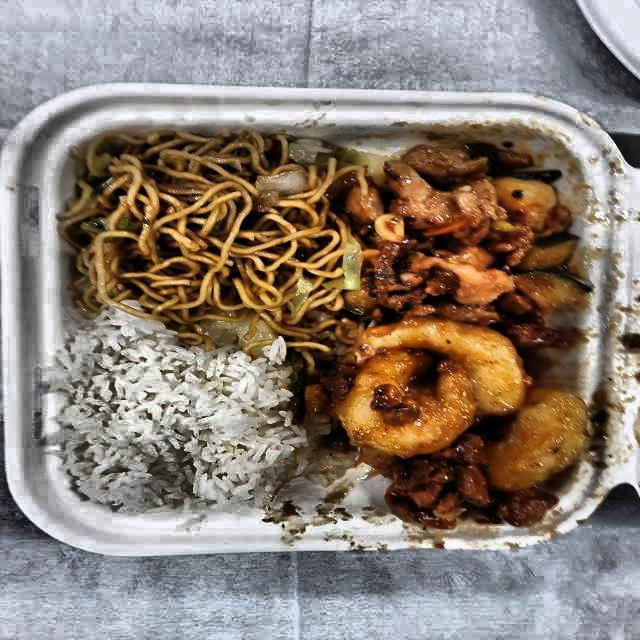Food: (328, 312, 606, 528), (65, 126, 342, 331), (346, 132, 600, 336), (52, 328, 306, 514)
